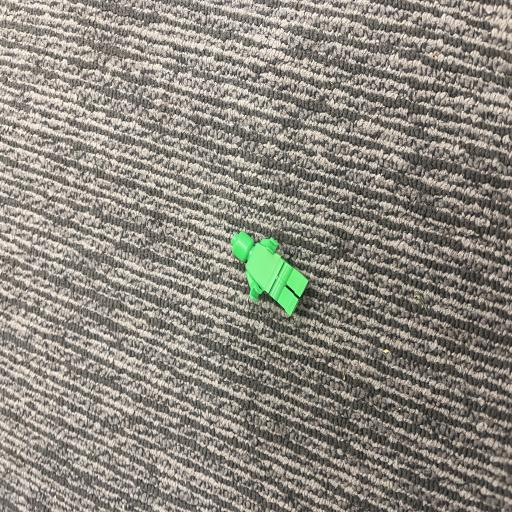Lego-Minifig: (231, 231, 308, 315)
